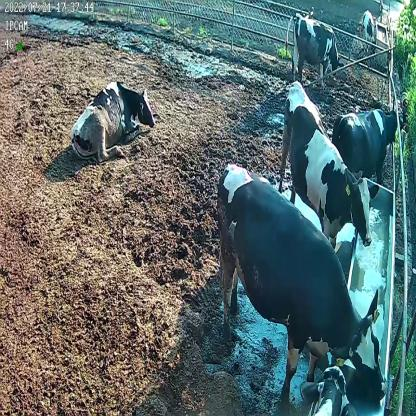cow: (216, 159, 389, 402), (280, 80, 381, 254), (69, 78, 156, 159), (332, 106, 400, 184), (284, 11, 343, 85)
